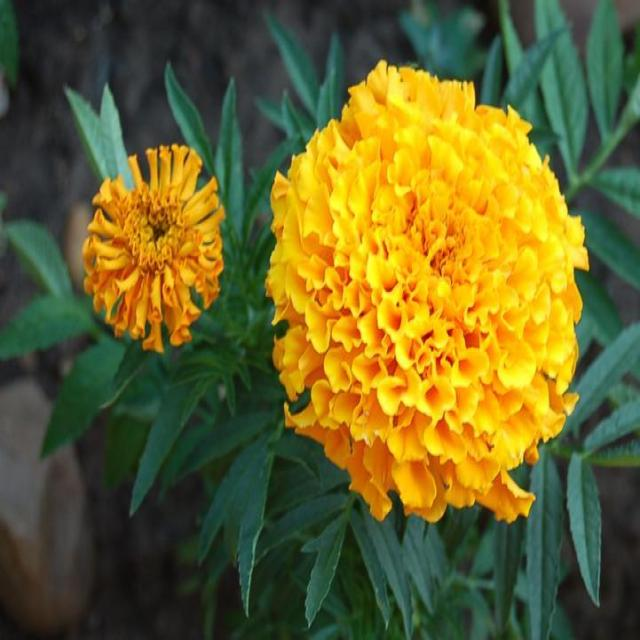marigold: (259, 38, 640, 574), (71, 117, 237, 396)
